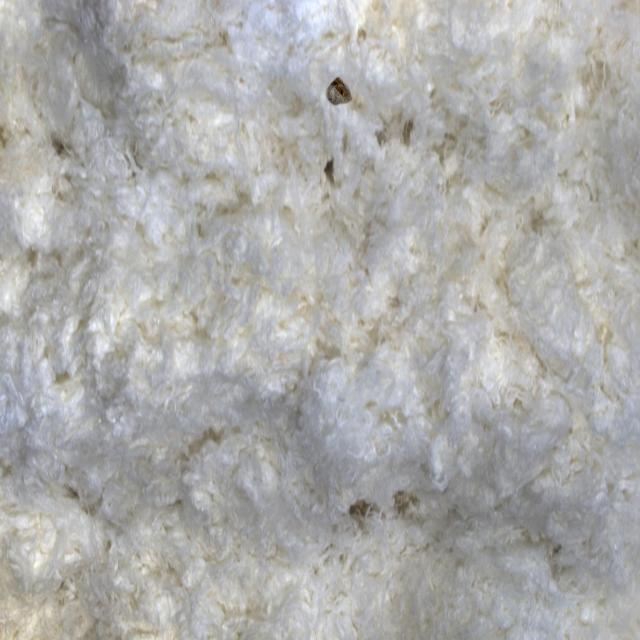dust: (304, 37, 379, 140)
